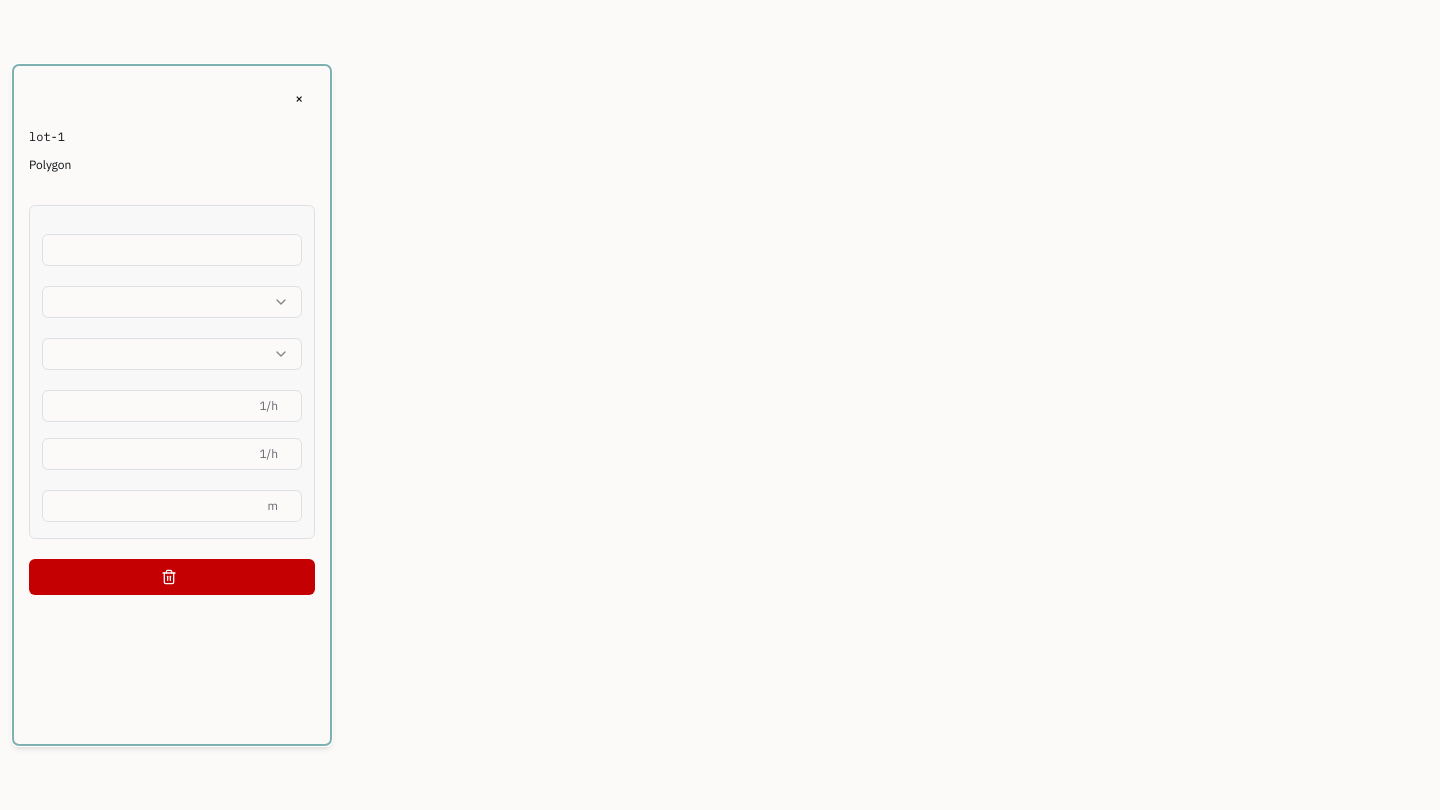
Test: FeatureEditor Parkplatz fields › offers the Tabelle 7 facility types that seed both rates
The width and height of the screenshot is (1440, 810).
Click the 2nd dropdown at (281, 354), box 42,338 -> 302,370
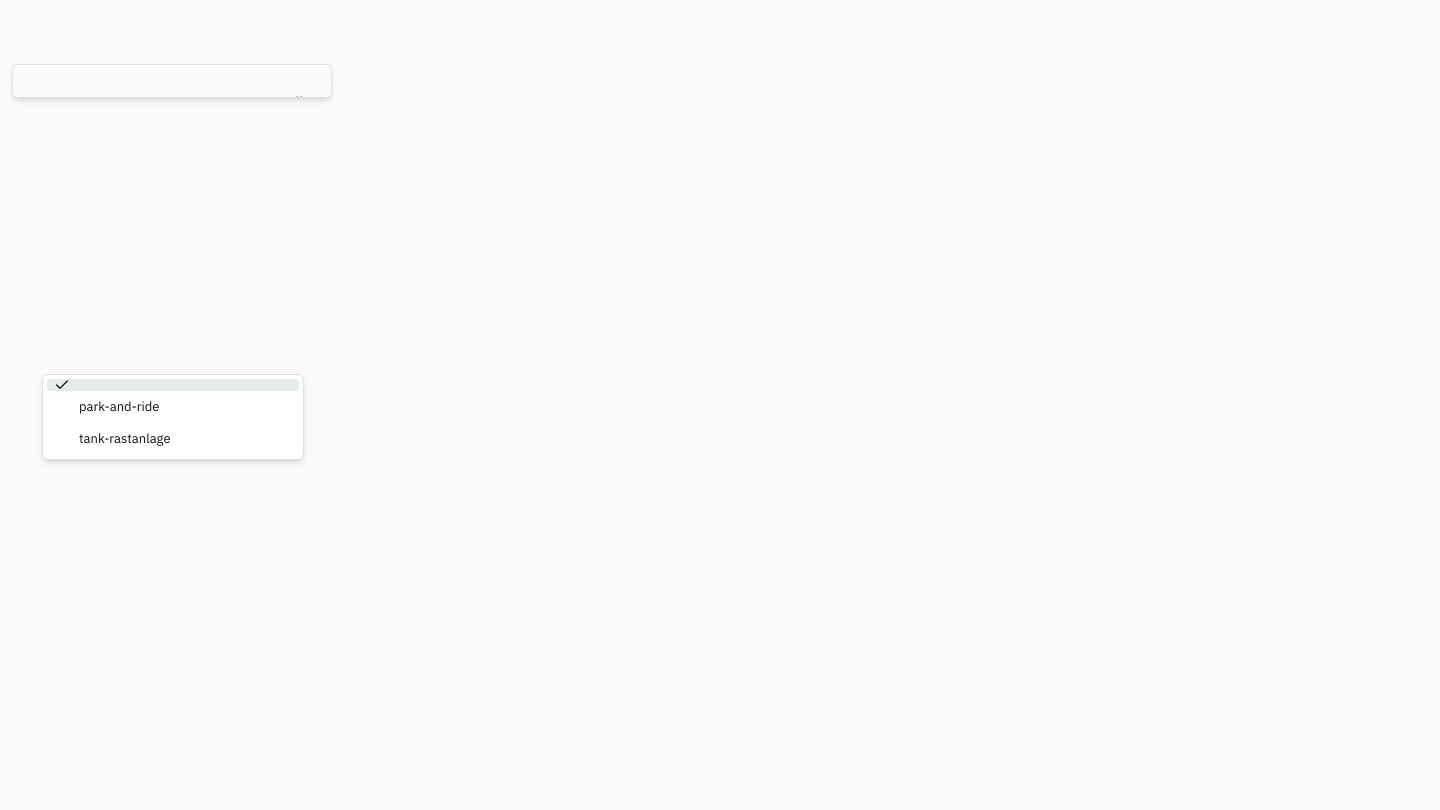
Check: the option "park-and-ride" is shown, box 79,398 -> 160,415
Check: the option "tank-rastanlage" is shown, box 79,430 -> 170,447
